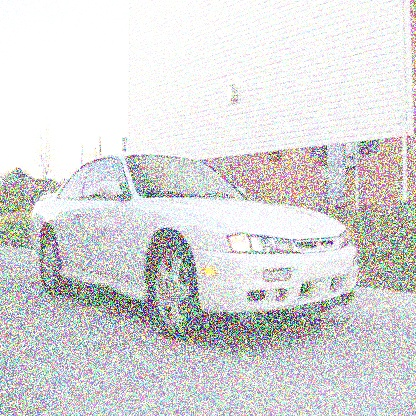Vehicle: (30, 153, 359, 342)
